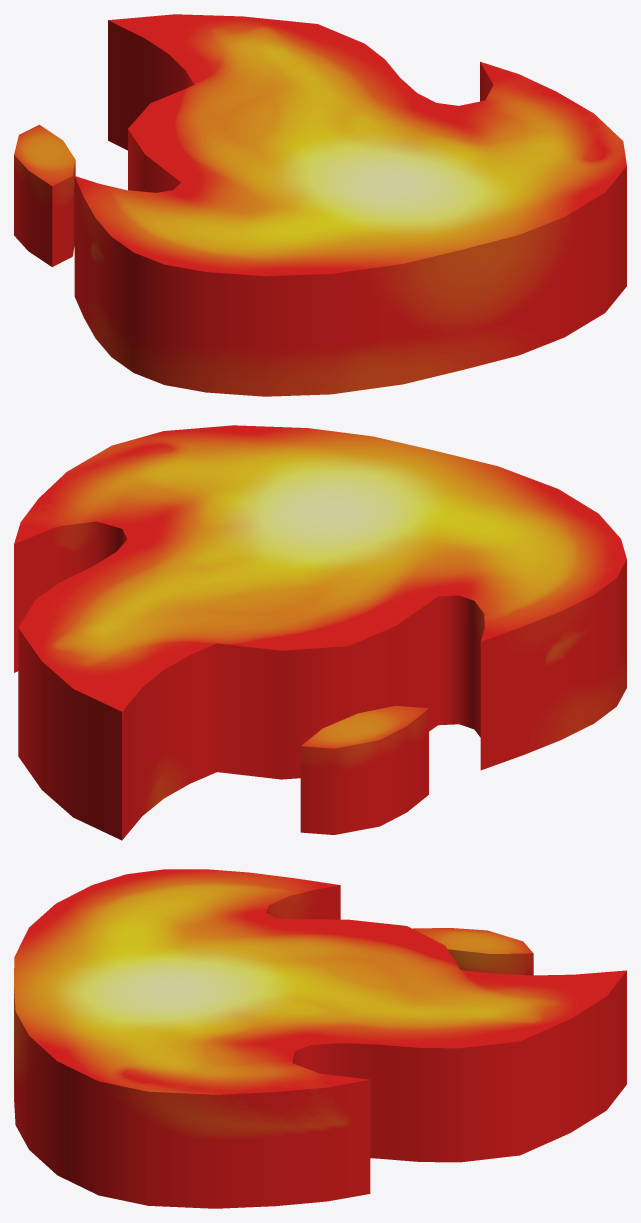
Rendered from fire.glb.
3 views of the same model, one above another, from view 1: azimuth 30°, elevation 25°; view 2: azimuth 150°, elevation 25°; view 3: azimuth 270°, elevation 25° (orthographic). The views are drawn at different scales.
Parts seen in each view (by area): view 1: fire; view 2: fire; view 3: fire.
Part boxes in pixels (<box>): fire: <box>14,14,626,396</box>; fire: <box>14,425,626,840</box>; fire: <box>14,869,626,1208</box>.
Bounding box in the file's own units: 0.0838 × 0.0198 × 0.0963.
1 material, 1 textured.
